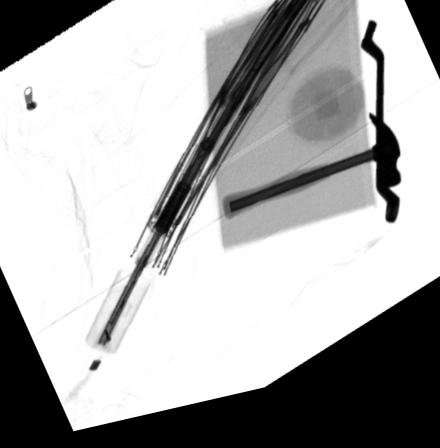Hammer: (222, 129, 401, 231)
Wrench: (359, 36, 401, 243)
